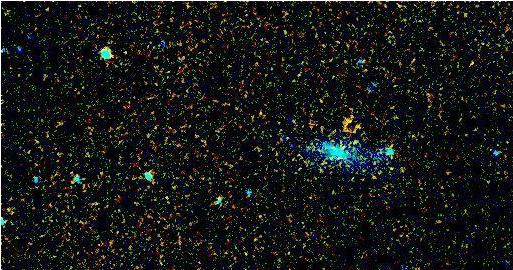star: (339, 104, 369, 134)
